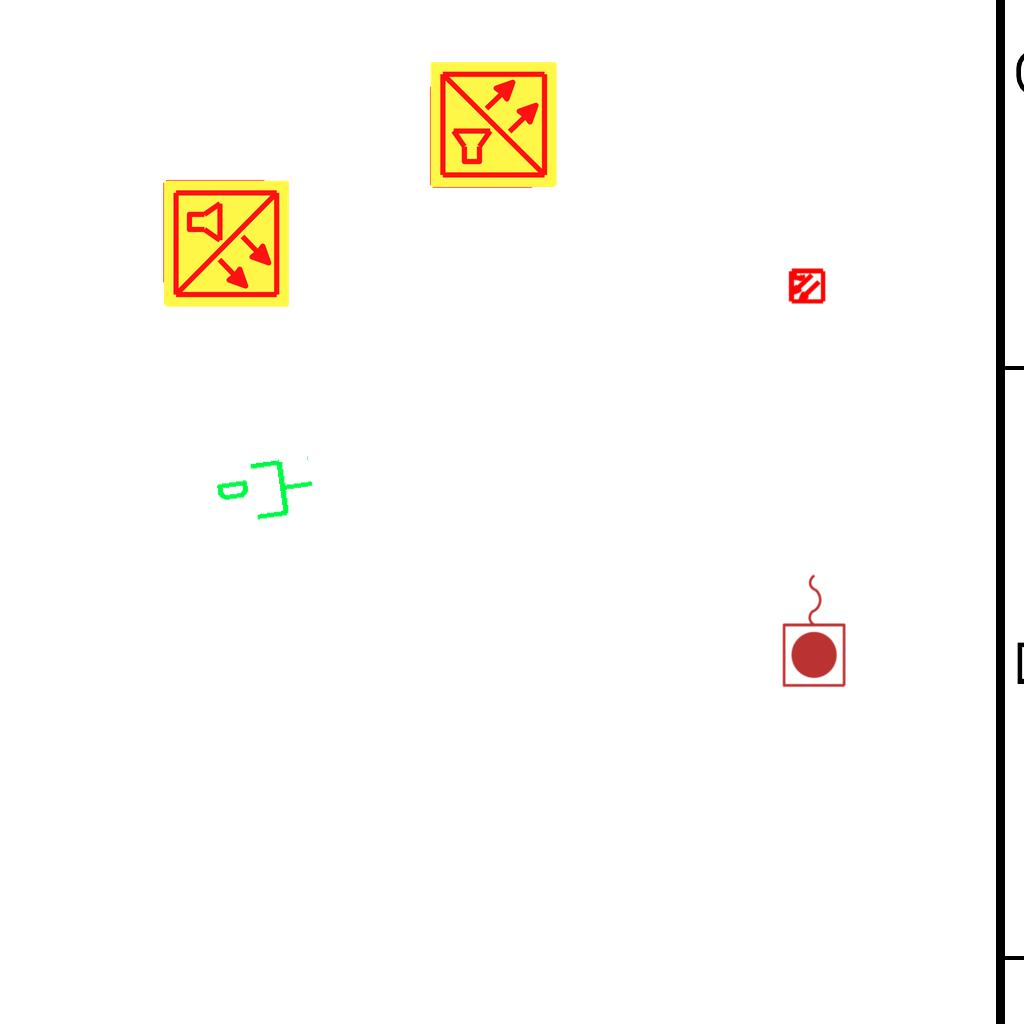Datenanschluss_einfach: (211, 450, 320, 534)
OKW_Multisensormelder_(Kombination_optischer_Rauch-Kahlenmonoxid_Waerme-Melder): (160, 178, 292, 310), (428, 59, 560, 191)
OT_Multisensormelder_(Kombination_RMO_WMD): (778, 258, 834, 314)
Zugtaster: (779, 569, 851, 691)
